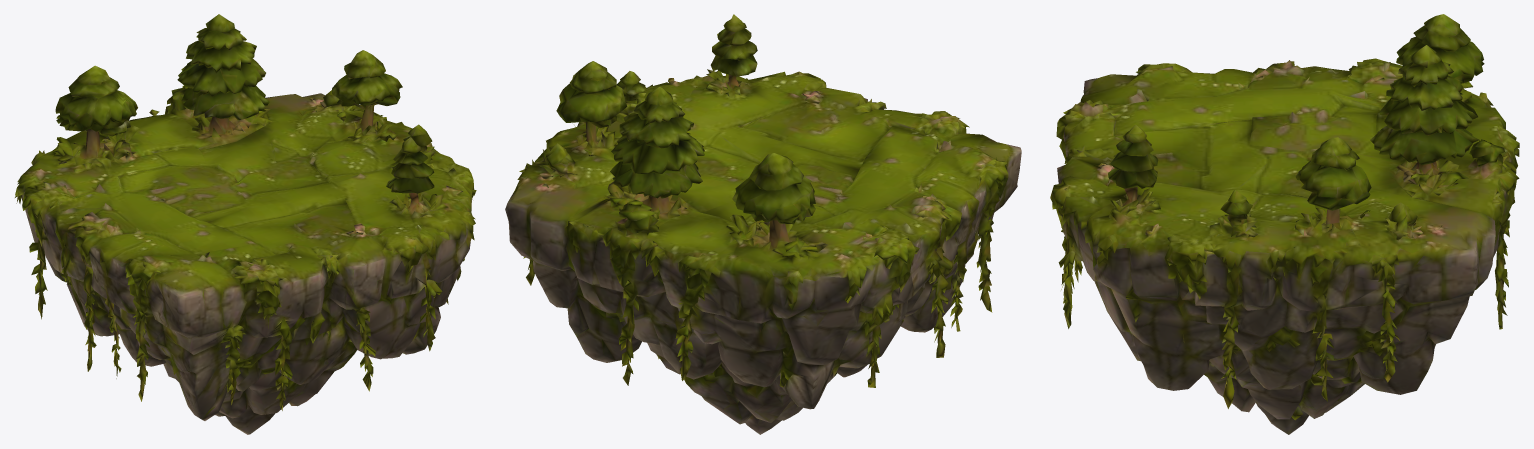
Rendered from island-north.glb.
3 views of the same model, side by side, from view 1: azimuth 30°, elevation 25°; view 2: azimuth 150°, elevation 25°; view 3: azimuth 270°, elevation 25° (orthographic). The views are drawn at different scales.
Visible parts, largest first — view 1: Mesh1.0; view 2: Mesh1.0; view 3: Mesh1.0.
Part boxes in pixels (<box>): Mesh1.0: <box>15,14,476,434</box>; Mesh1.0: <box>505,14,1021,434</box>; Mesh1.0: <box>1050,14,1519,434</box>.
Size of the model in its own units: 1.89 by 1.81 by 1.89.
Materials: 1 (1 with a texture image).
